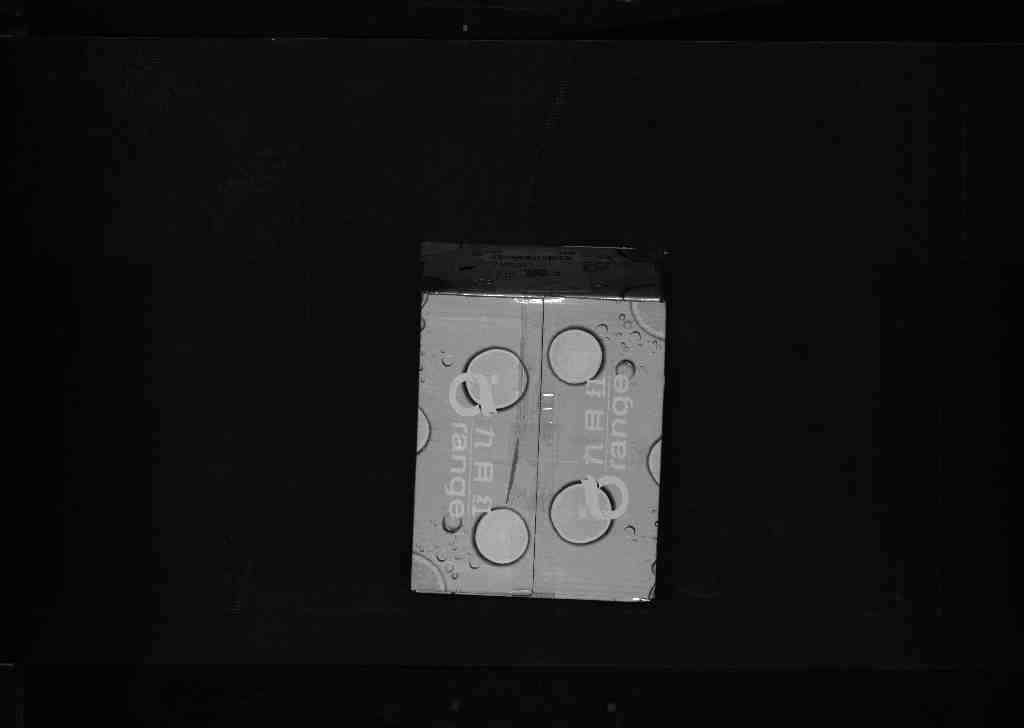box: (393, 224, 673, 615)
